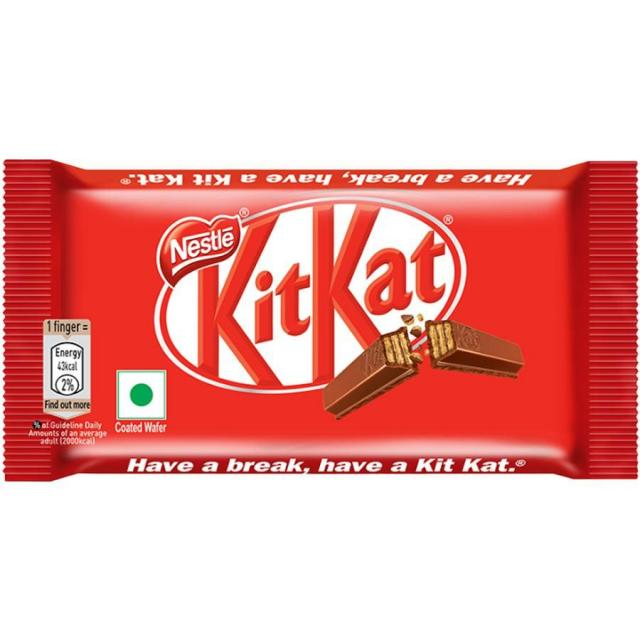kitkat: (3, 157, 635, 479)
